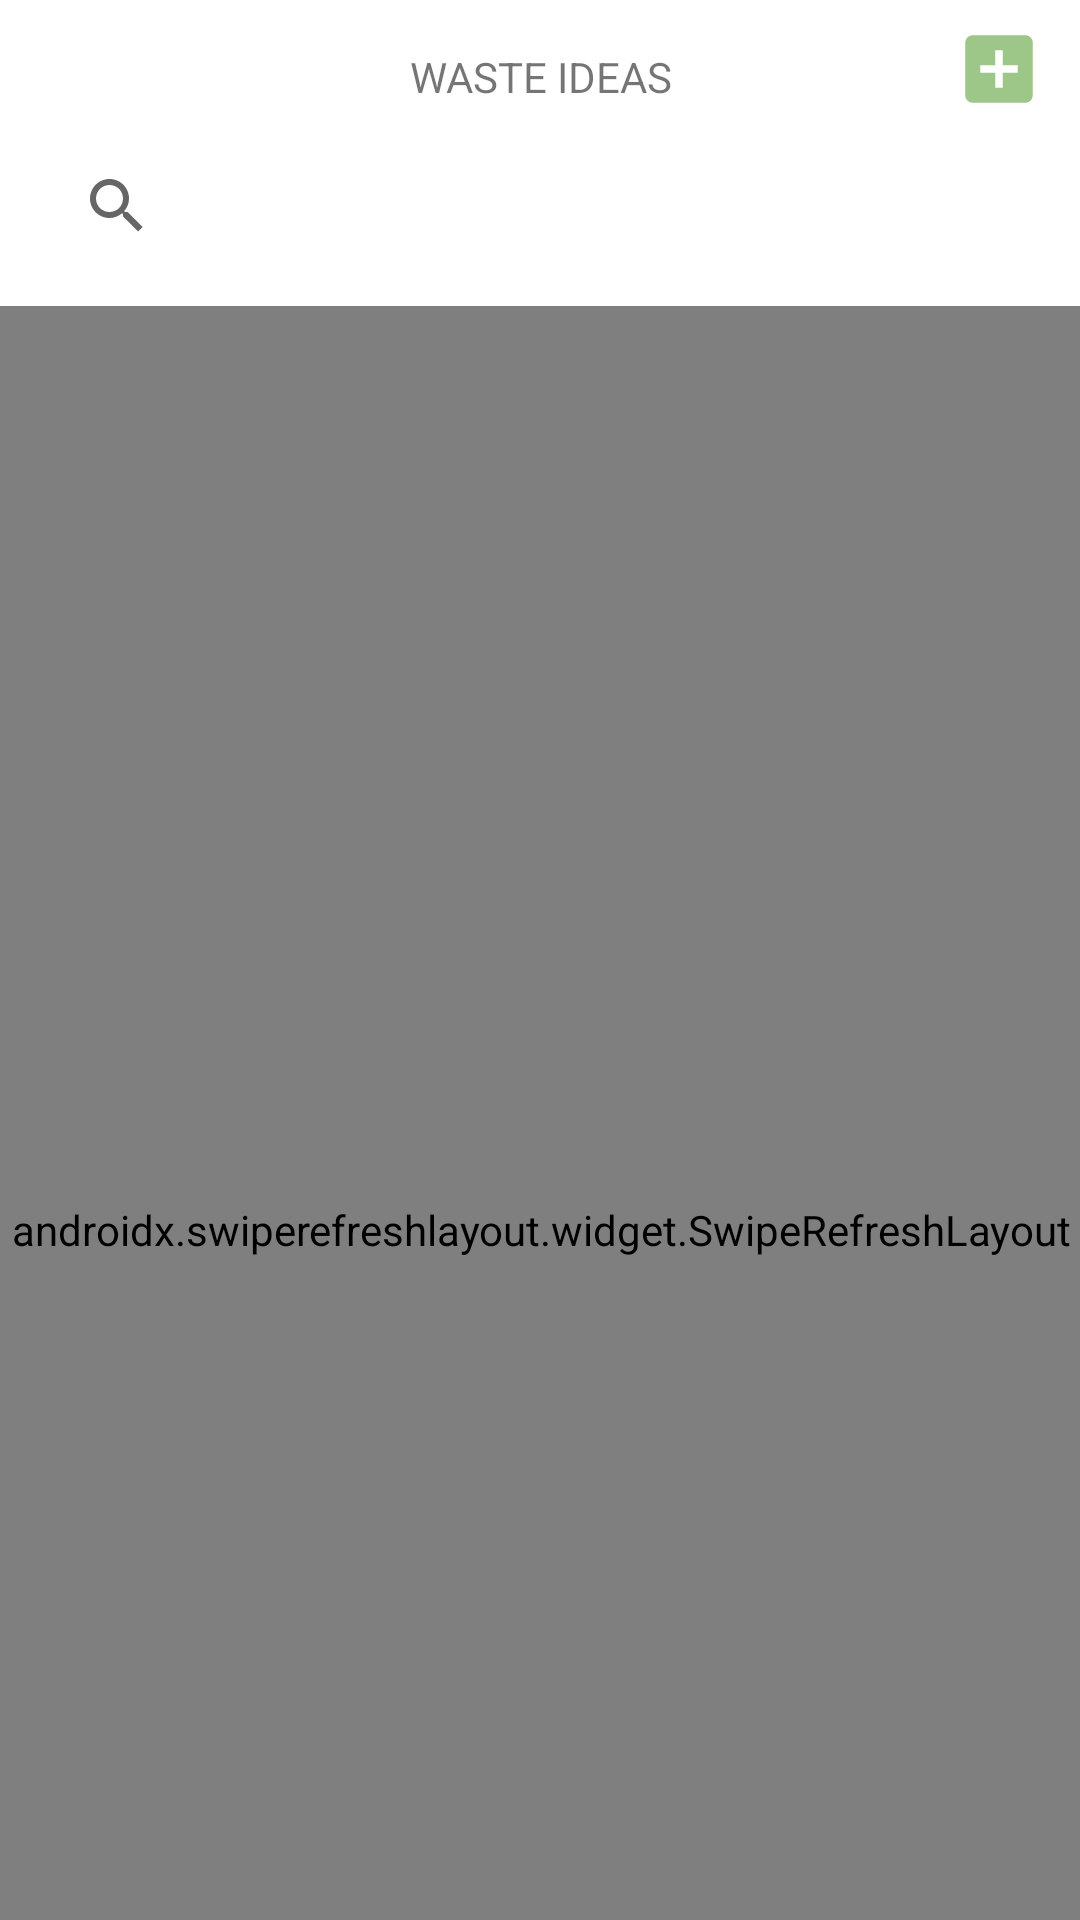

Named icons in this screenshot (1080px x 1920px) and their centers, [x,y]:
add: [999,69]
